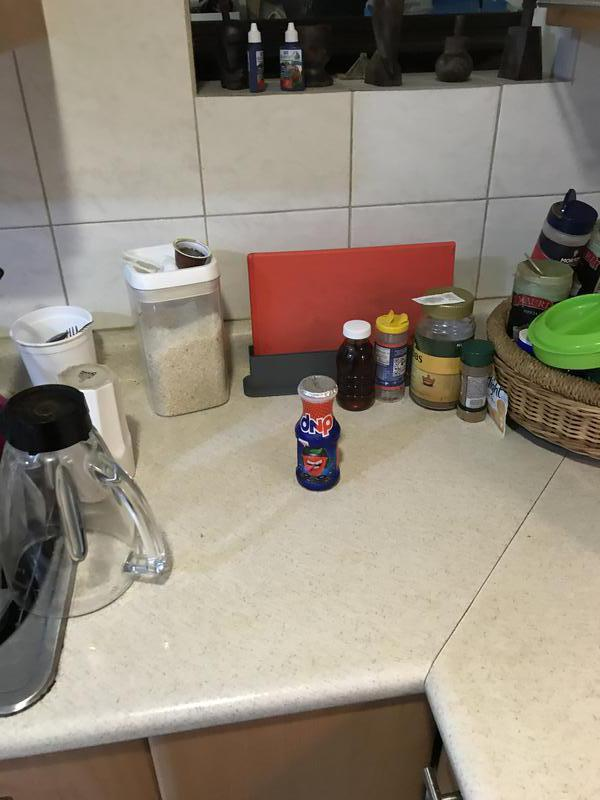danup: (292, 373, 345, 493)
